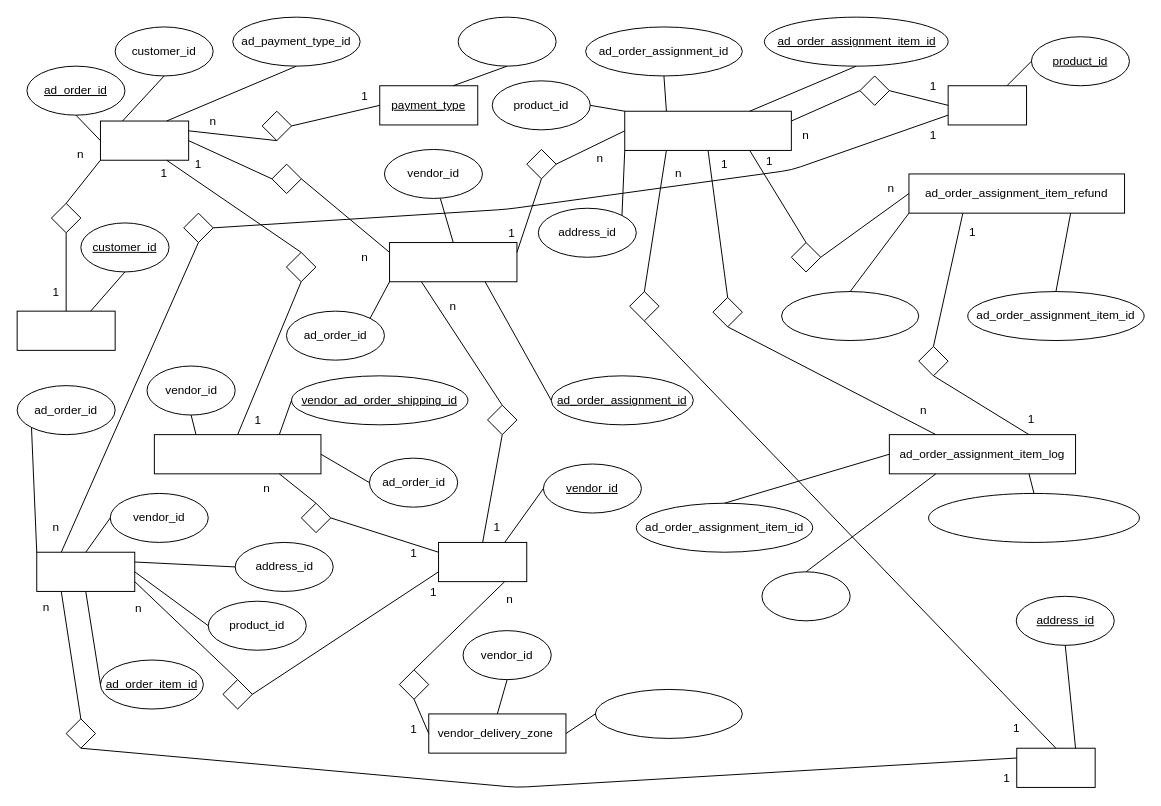
Image size: 1161x806. Some labels were removed from this diagram. Each missing label, with the centre of its shape:
"ad_order" goes at (144,140).
"ad_order_assignment" goes at (453,262).
"ad_order_assignment_ item_refund_id" goes at (850,316).
"ad_order_assignment_item" goes at (707,130).
"ad_order_assignment_item_log_id" goes at (1033,517).
"ad_order_item" goes at (85,571).
"address" goes at (1055,767).
"customer" goes at (65,330).
"payment_type_id" goes at (506,41).
"product" goes at (987,105).
"refund_id" goes at (805,596).
"vendor" goes at (482,561).
"vendor_ad_order_shipping" goes at (237,454).
"vendor_delivery_zone_id" goes at (668,713).
